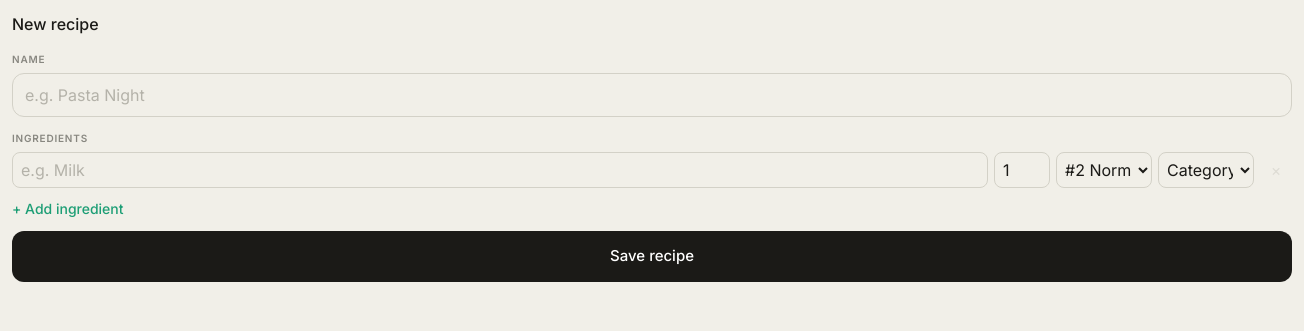
Scenario: RecipeForm › shows error message when addRecipe throws
The width and height of the screenshot is (1304, 331).
In the field with placeholder "e.g. Pasta Night": (652, 95) x1=12 y1=73 x2=1292 y2=117, type "Pasta Night"
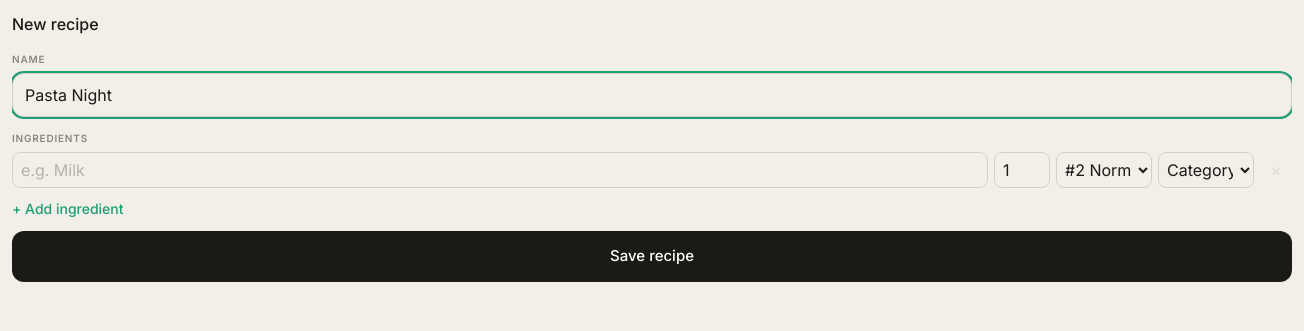
In the field with placeholder "e.g. Milk": (500, 170) x1=12 y1=152 x2=988 y2=188, type "Pasta"
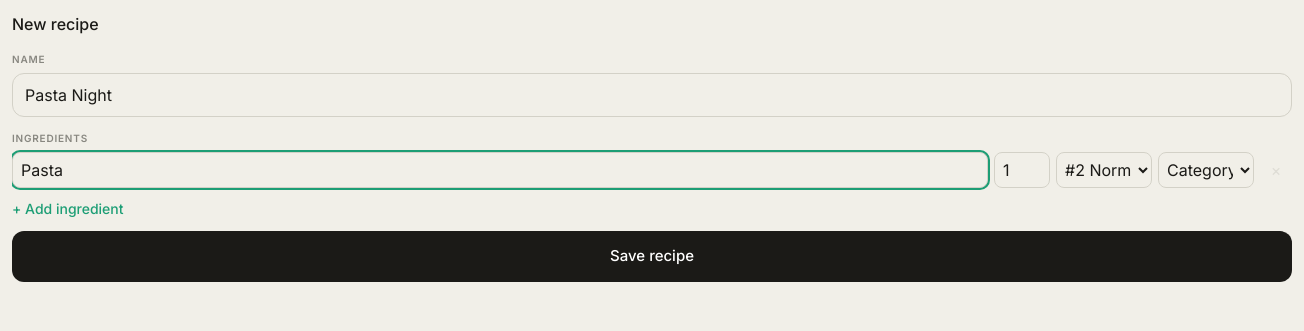
Click the button "Save recipe": (652, 256) x1=12 y1=231 x2=1292 y2=282
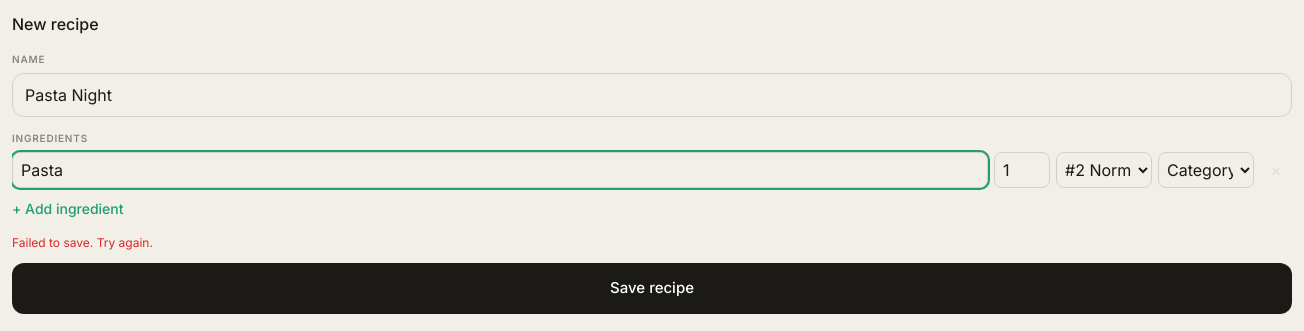
Expected: the text "Failed to save. Try again." is shown, x1=12 y1=235 x2=153 y2=250
